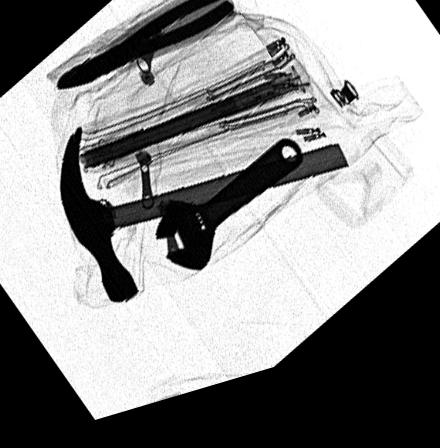Hammer: (59, 129, 350, 309)
Pliers: (44, 0, 242, 99)
Wrench: (153, 155, 306, 283)
